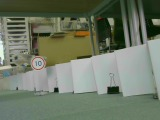speed_10: (30, 55, 48, 72)
